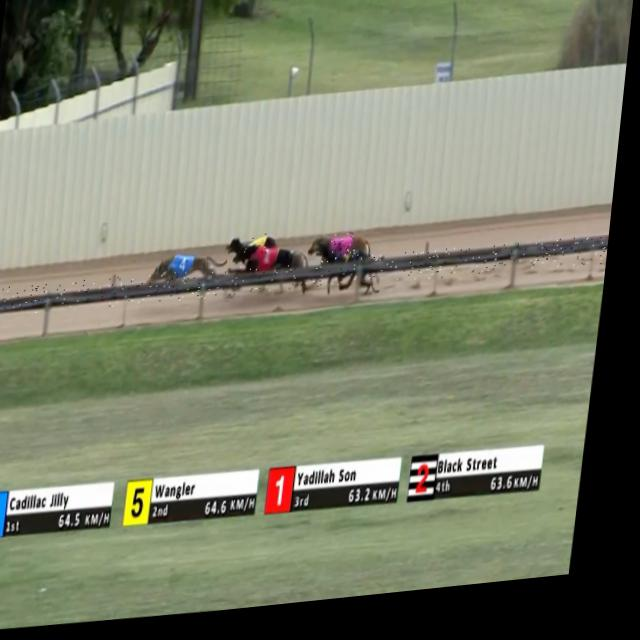dog_eight: (333, 240, 359, 268)
dog_five: (249, 240, 275, 262)
dog_four: (175, 258, 200, 284)
dog_one: (256, 250, 284, 277)
dog_seven: (343, 254, 365, 280)
rail: (0, 249, 615, 317)
